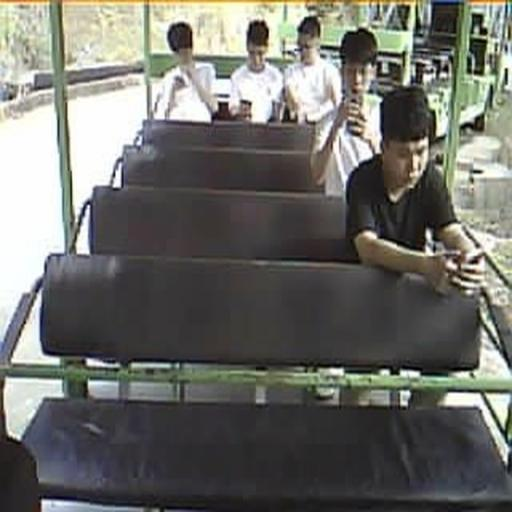persona: (344, 84, 486, 299), (309, 27, 385, 198), (282, 15, 343, 126), (152, 21, 218, 123), (227, 19, 284, 123)
